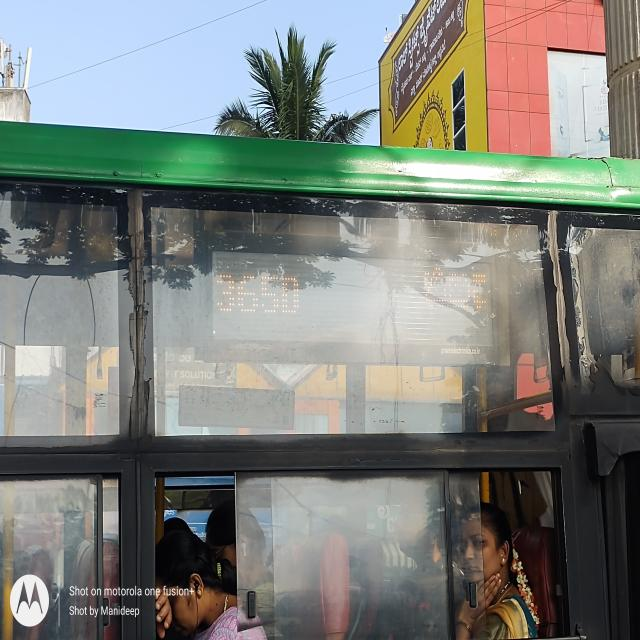bus: (0, 107, 637, 572)
display: (202, 229, 508, 373)
dnumber: (212, 259, 306, 333)
